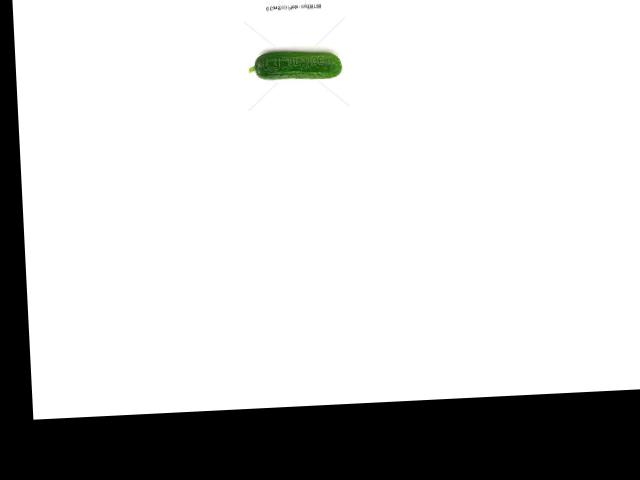cucumber: (248, 48, 343, 81)
